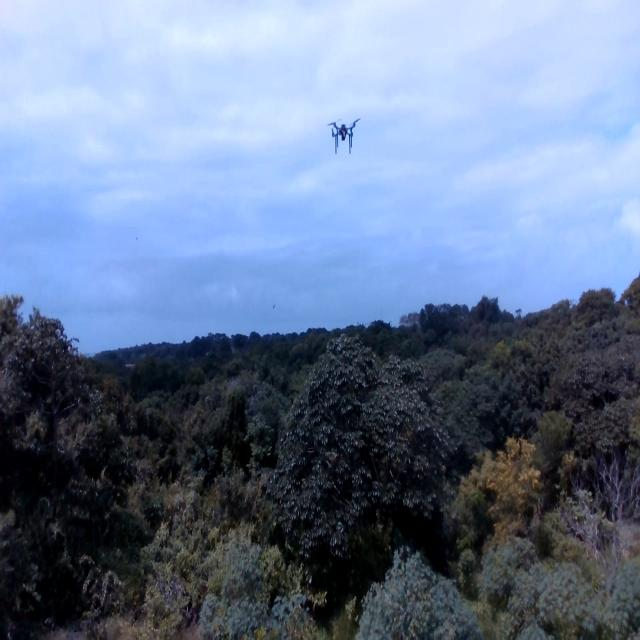-uav-: (323, 105, 364, 158)
